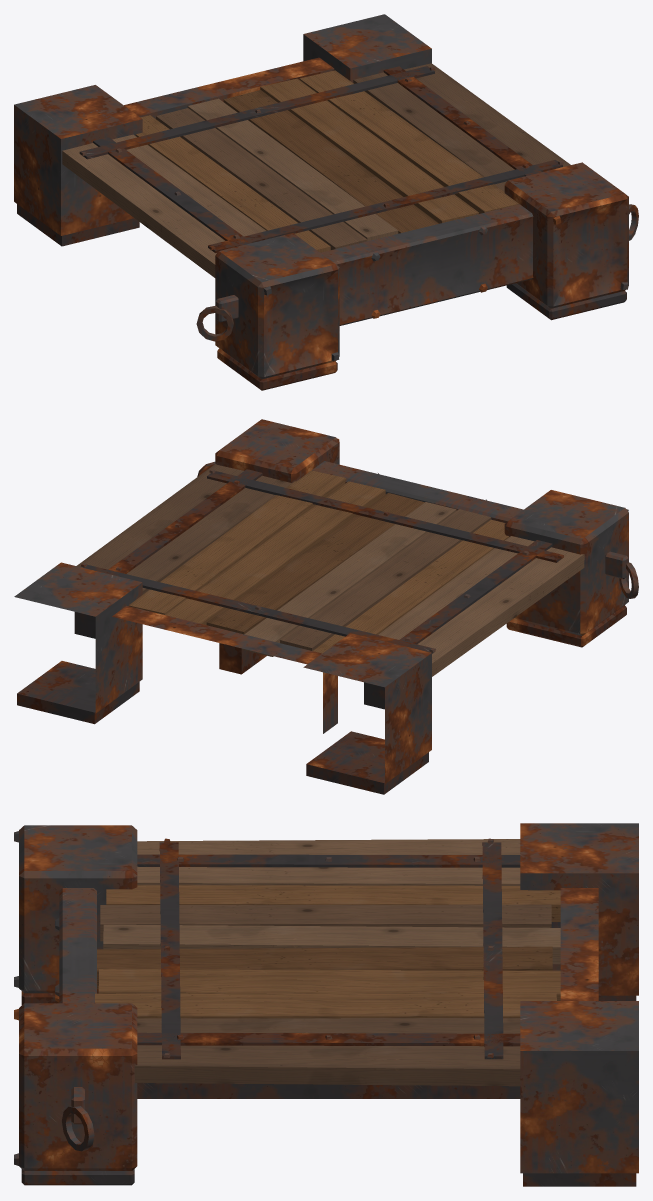
The model's file is Platform_Lower.glb.
The picture shows the model from 3 angles, top to bottom: view 1: azimuth 30°, elevation 25°; view 2: azimuth 150°, elevation 25°; view 3: azimuth 270°, elevation 25°; orthographic projection. The views are drawn at different scales.
Visible parts, largest first — view 1: Platform_Lower; view 2: Platform_Lower; view 3: Platform_Lower.
Part boxes in pixels (bbox=[...]): Platform_Lower: bbox=[14, 14, 638, 390]; Platform_Lower: bbox=[14, 419, 638, 794]; Platform_Lower: bbox=[14, 823, 638, 1186].
Size of the model in its own units: 2.39 by 0.56 by 2.32.
Materials: 4 (4 with a texture image).
